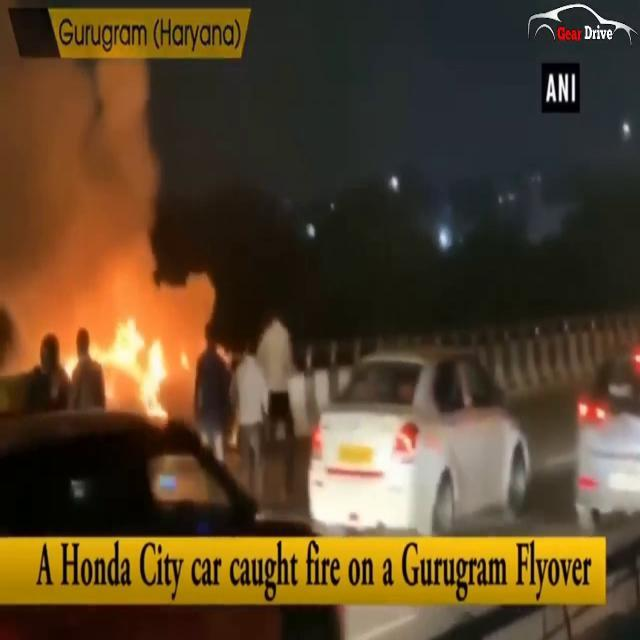Fire: (91, 304, 180, 420)
Smoke: (0, 51, 180, 342)
